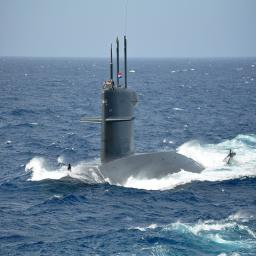submarine: (63, 39, 237, 192)
